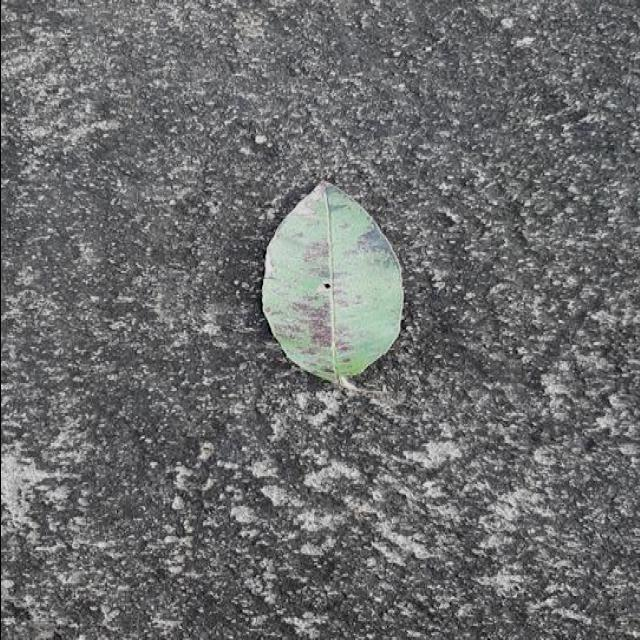leaf: (260, 179, 404, 386)
